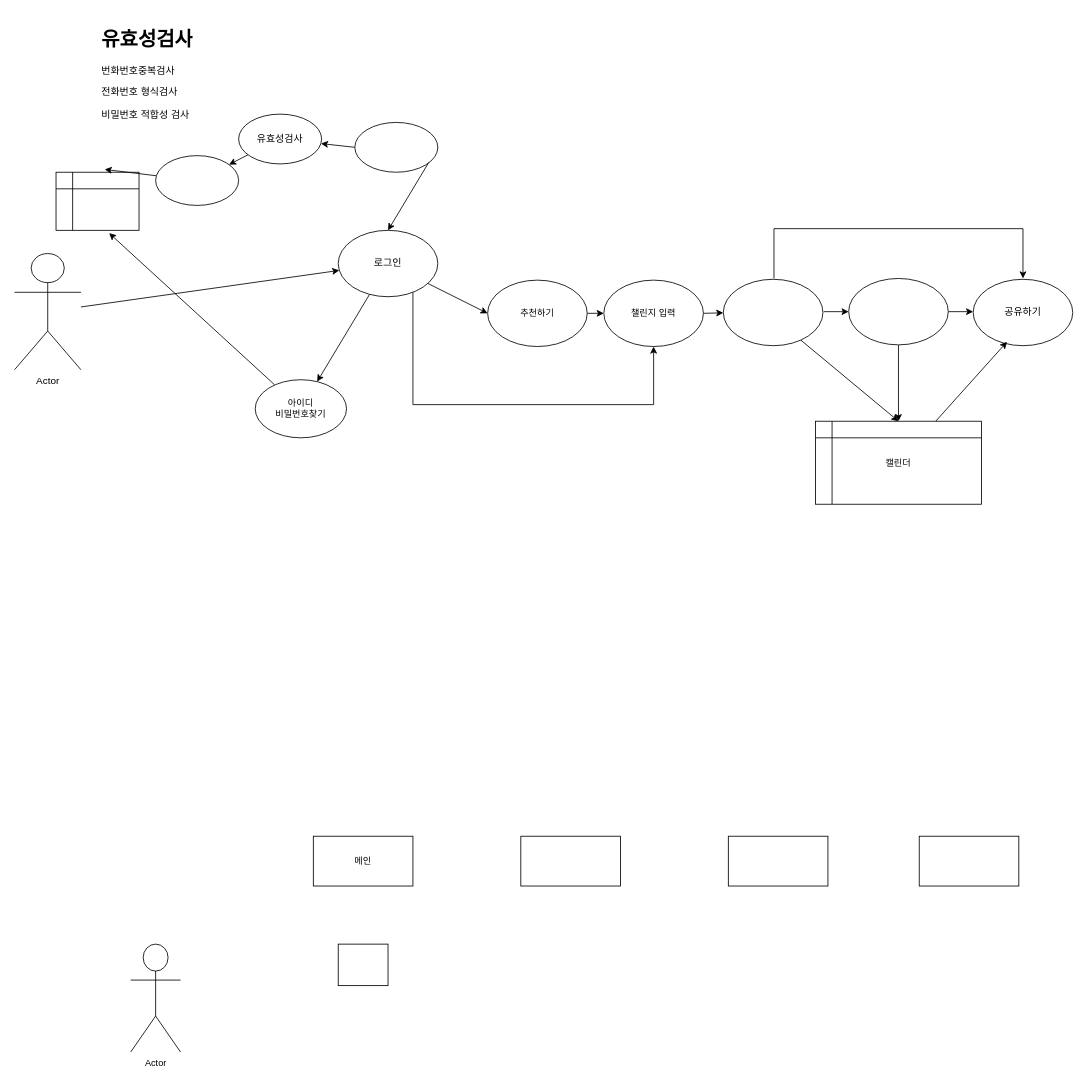
The diagram is 1087 pixels wide and 1082 high, and some of its shapes have lost their labels. The shapes that lost their labels are listed below. From the top down, each one's centre as x and y in pixels, then its label:
At [396,147]: "회원가입".
At [97,200]: "회원 정보".
At [197,180]: "회원정보저장".
At [773,312]: "챌린지 저장".
At [898,311]: "일정입력 및 추가".
